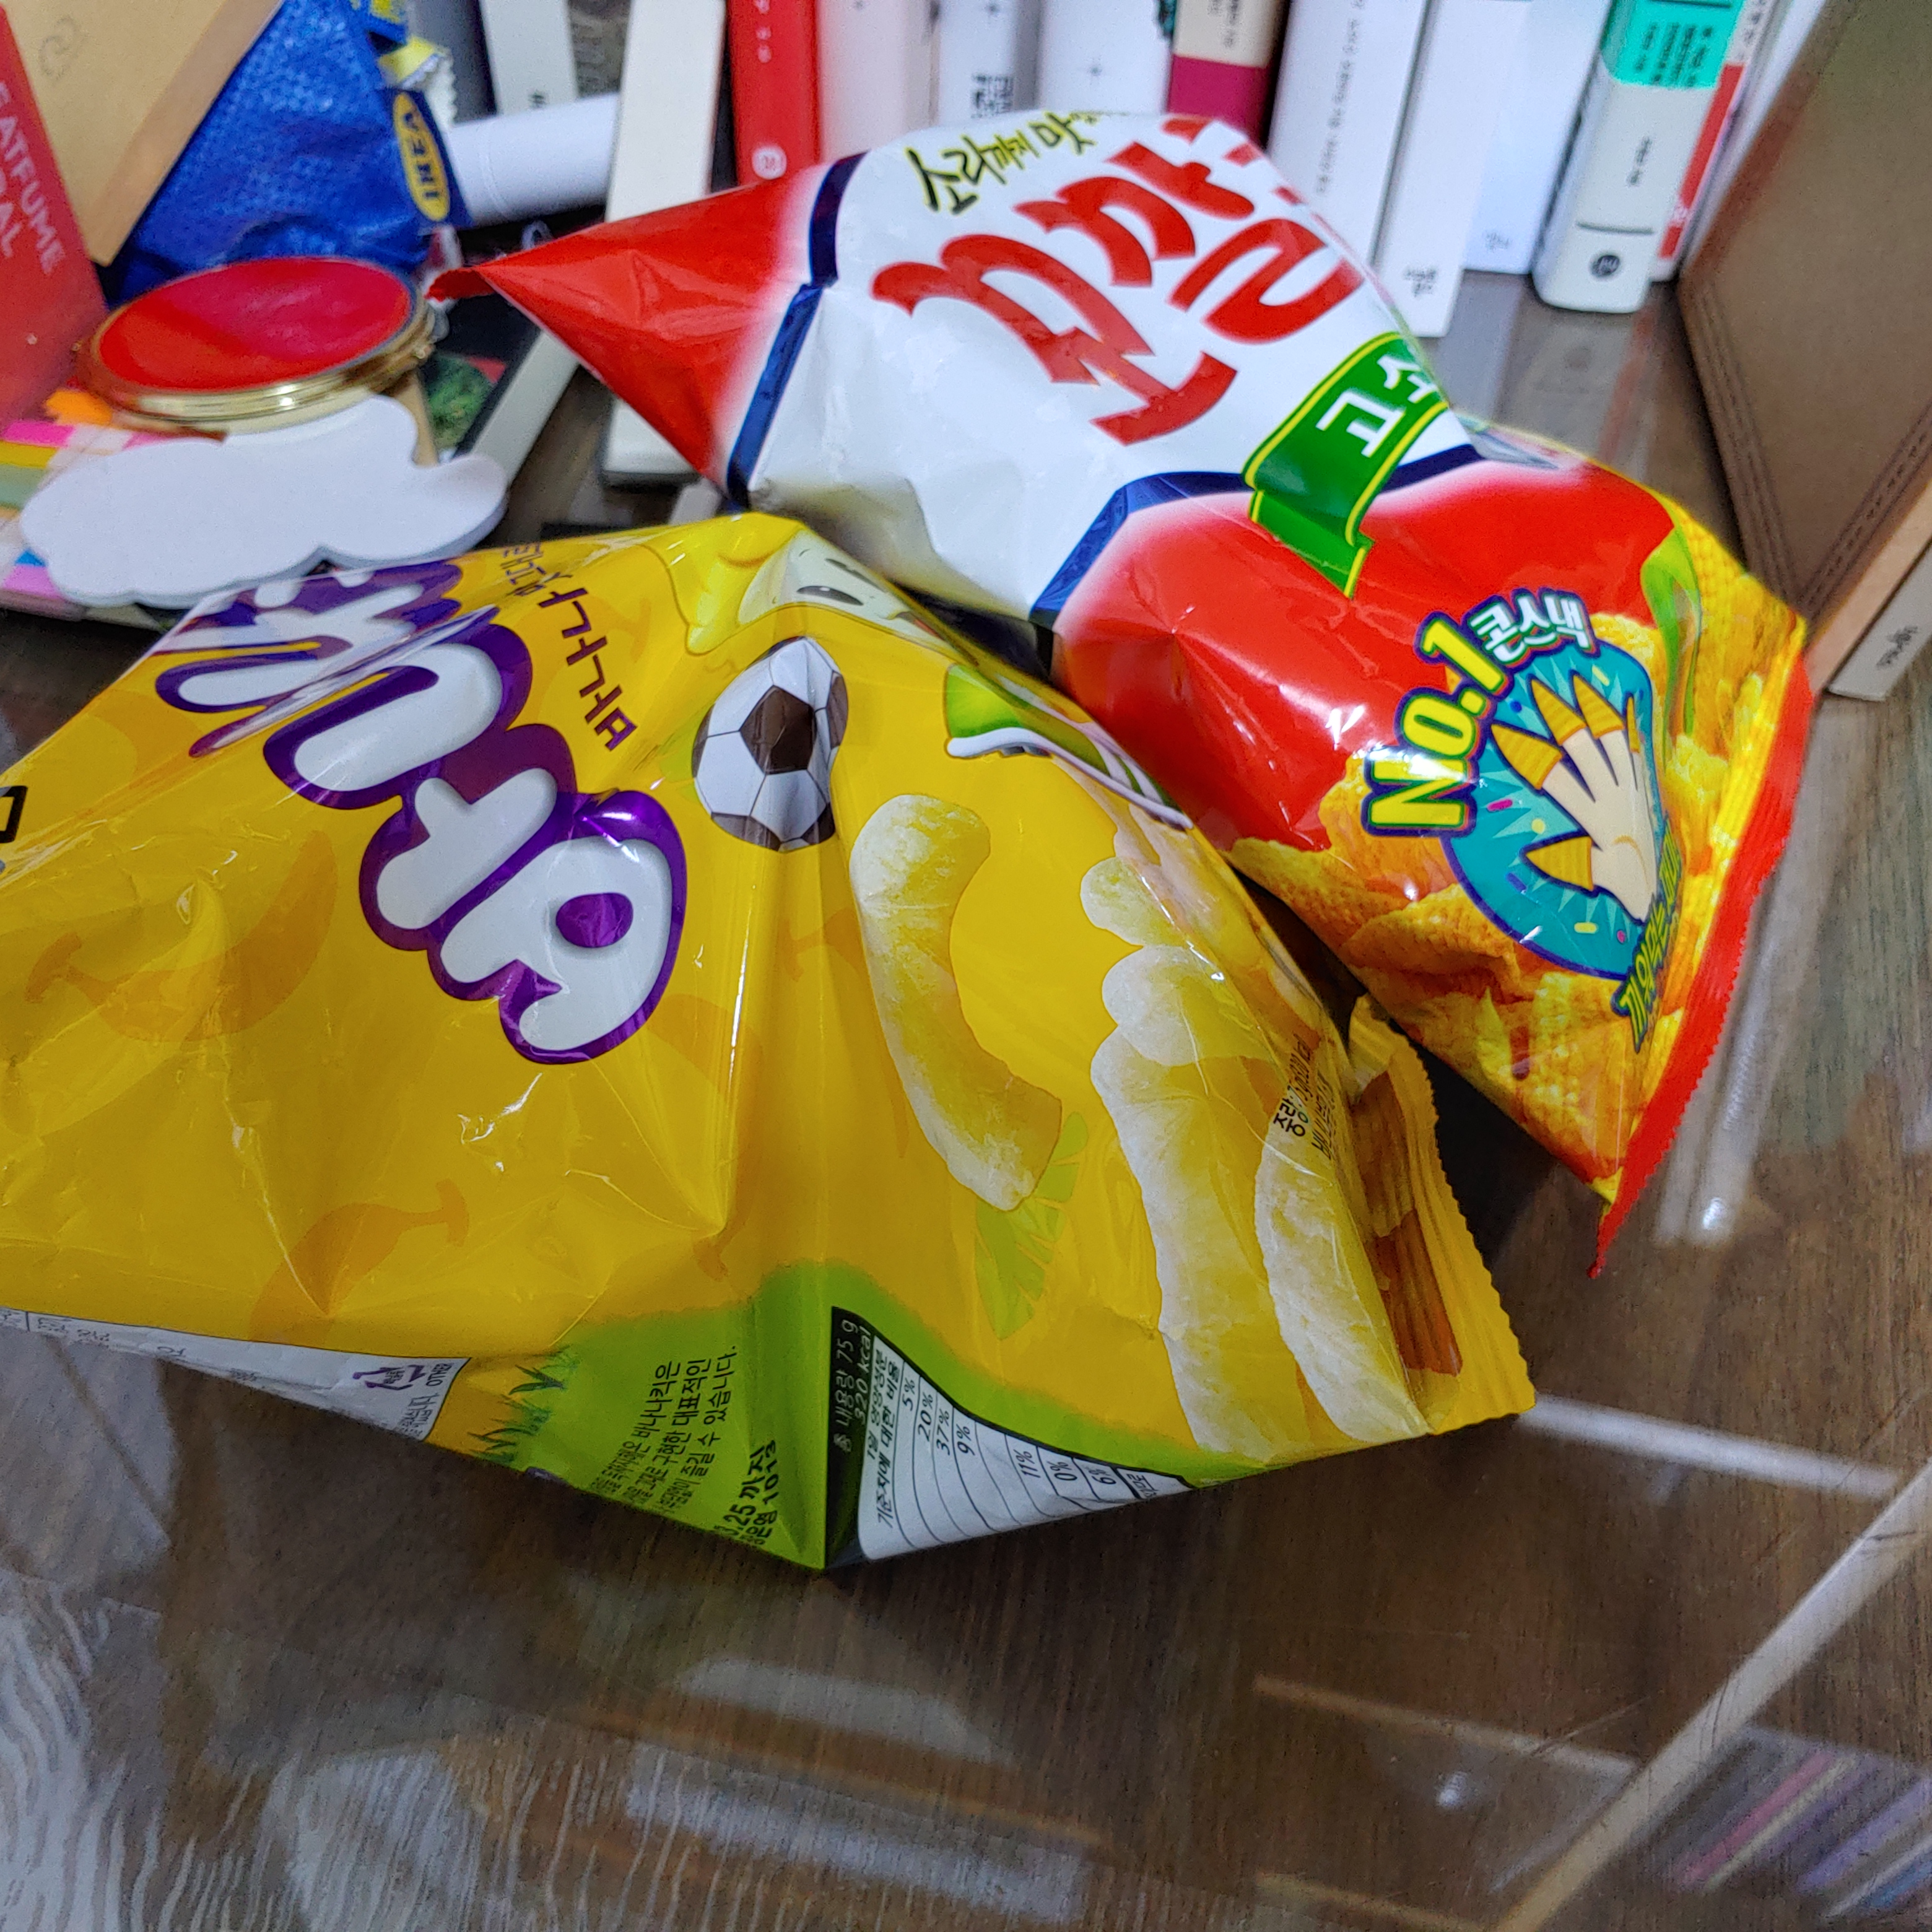banana: (0, 471, 1635, 1589)
ggoggalcon: (361, 50, 1886, 1290)
